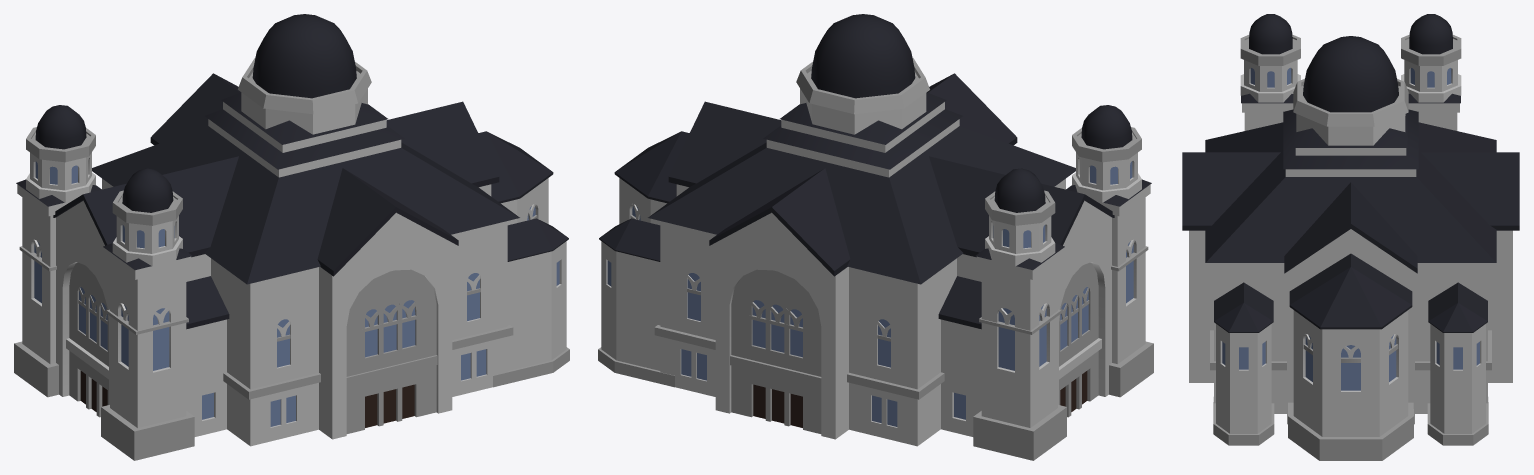
File: Synagogue_01.fbx
3 views of the same model, side by side, from view 1: azimuth 30°, elevation 25°; view 2: azimuth 150°, elevation 25°; view 3: azimuth 270°, elevation 25° (orthographic). The views are drawn at different scales.
Parts seen in each view (by area): view 1: Synagogue_01; view 2: Synagogue_01; view 3: Synagogue_01.
Part boxes in pixels (x1,y1,x2,y2): Synagogue_01: (14,14,569,460); Synagogue_01: (598,14,1153,460); Synagogue_01: (1182,14,1519,460).
Bounding box in the file's own units: 36.58 × 25.85 × 24.98.
